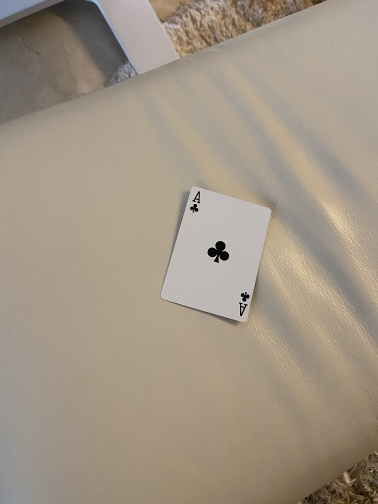ace: (158, 185, 273, 325)
